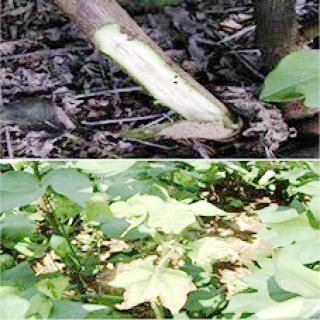wilt: (103, 25, 209, 106), (220, 215, 272, 271)
